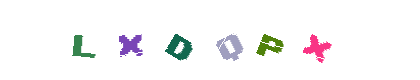D: (170, 0, 250, 80)
L: (90, 0, 170, 80)
P: (229, 0, 309, 80)
Q: (187, 0, 267, 80)
X: (101, 0, 181, 80), (276, 0, 356, 80)
